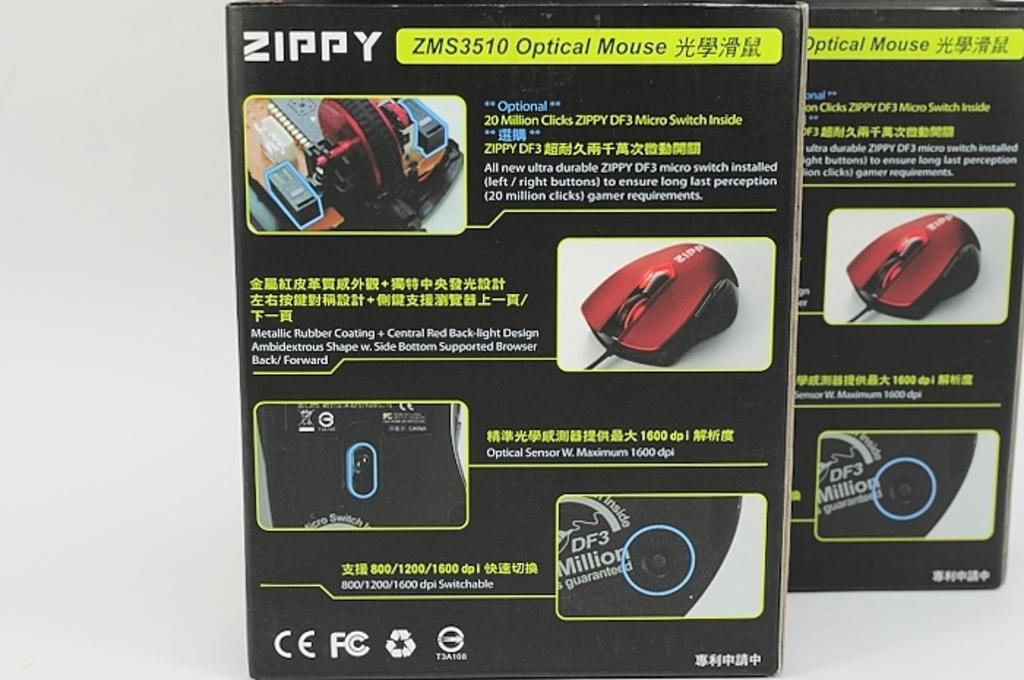Computer-mouse: (578, 240, 739, 364), (841, 206, 985, 322)
